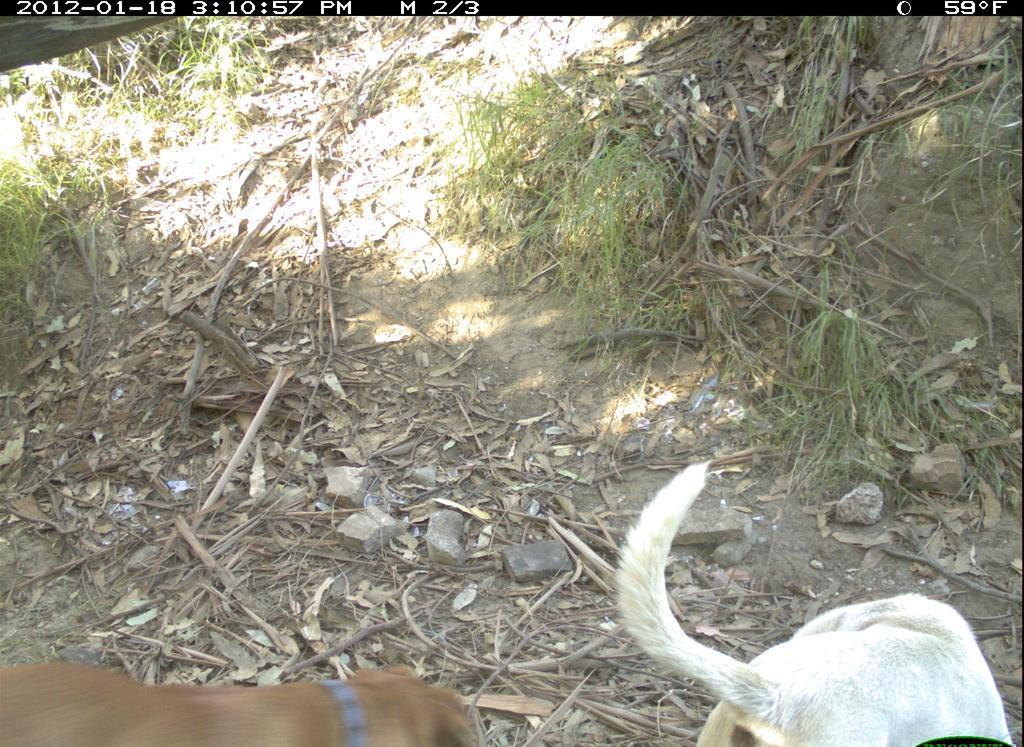dog: (609, 460, 1017, 747), (2, 658, 485, 747)
